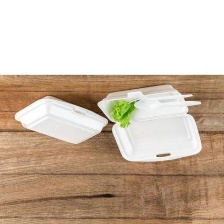foam_box: (92, 80, 206, 166), (10, 93, 109, 146)
